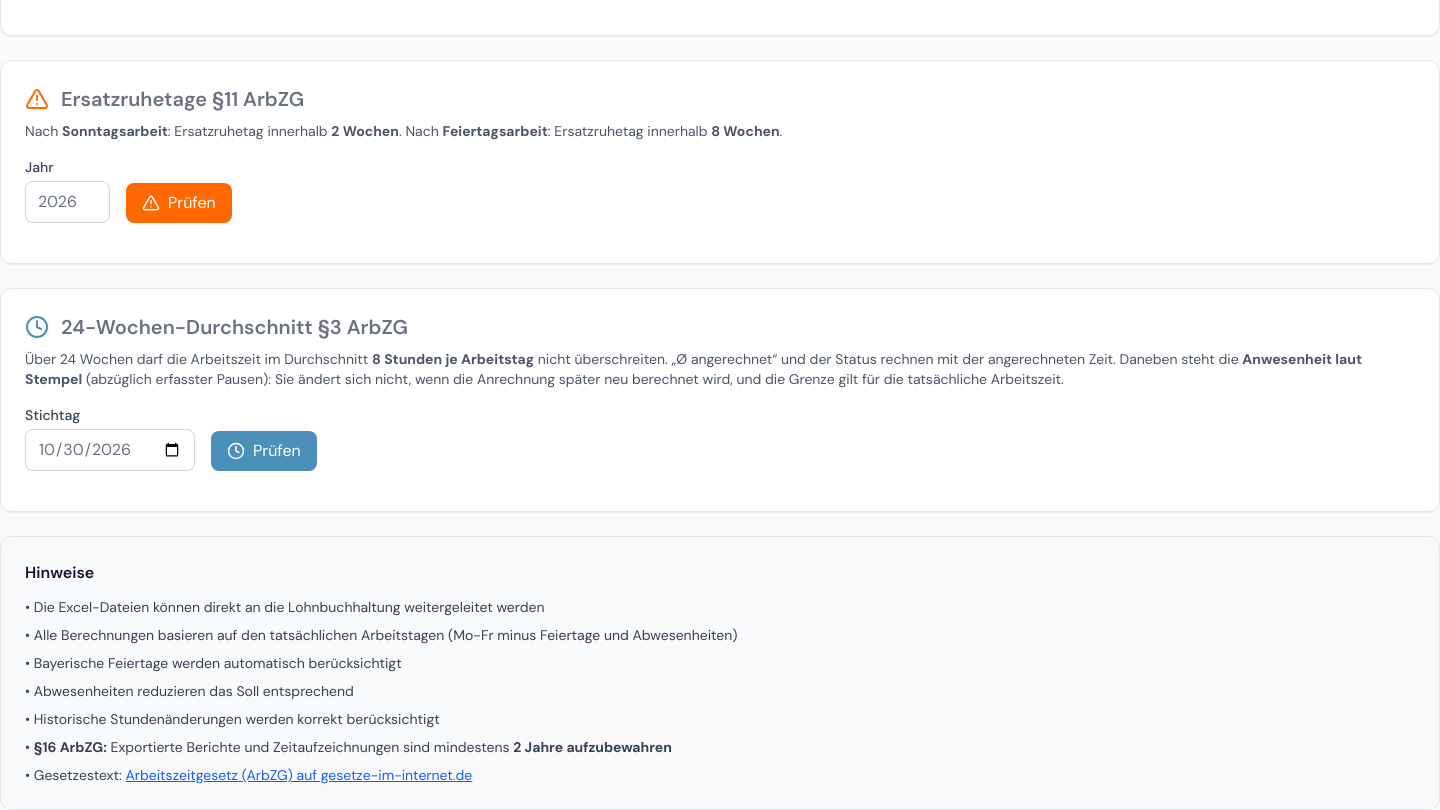
Scenario: <Reports /> 24-Wochen-Durchschnitt (Spec 8.1, P22) › zeigt angerechnete Zeit und Anwesenheit laut Stempel nebeneinander
(page scrolled)
Click the button with aria-label "24-Wochen-Durchschnitt prüfen".
click(264, 451)  # box top-left (211, 431), bottom-right (317, 471)
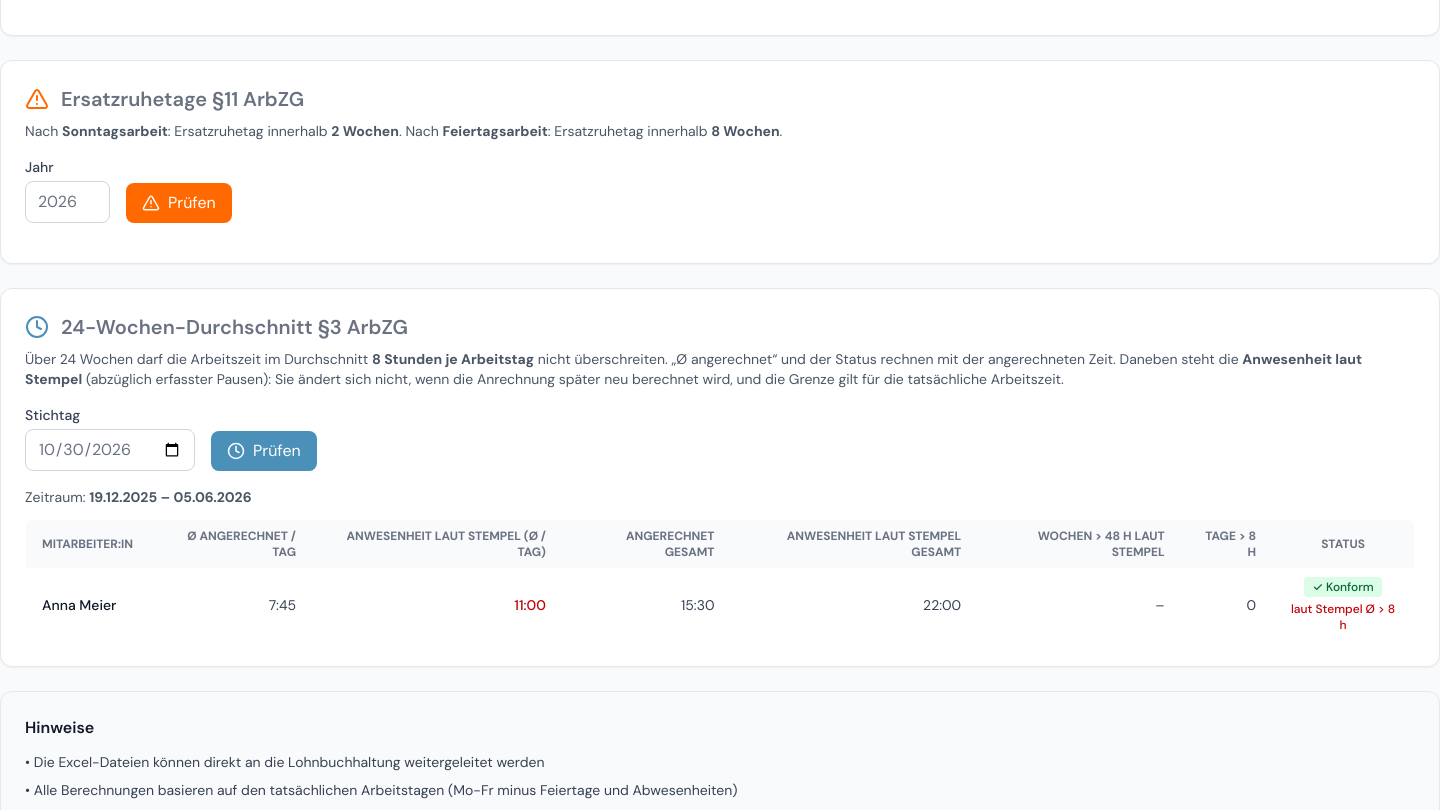
Result: the column heading "Anwesenheit laut Stempel (Ø / Tag)" is shown at top-left (312, 520), bottom-right (562, 568)
Result: the text "7:45" is shown at top-left (149, 568), bottom-right (312, 642)
Result: the text "11:00" is shown at top-left (312, 568), bottom-right (562, 642)
